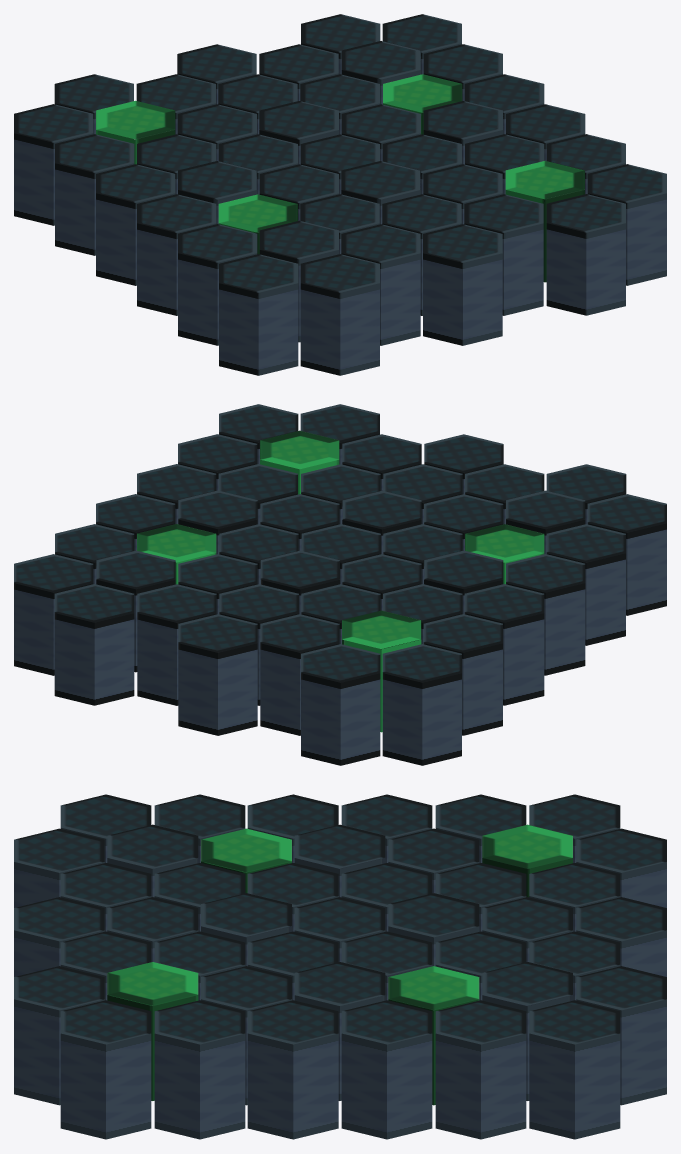
File: general0.fbx
The picture shows the model from 3 angles, top to bottom: view 1: azimuth 30°, elevation 25°; view 2: azimuth 150°, elevation 25°; view 3: azimuth 270°, elevation 25°; orthographic projection. The views are drawn at different scales.
Visible parts, largest first — view 1: pCylinder41, pCylinder38, pCylinder45, pCylinder44, pCylinder34, pCylinder25, pCylinder13, pCylinder29, pCylinder42, pCylinder35, pCylinder43, pCylinder12 (+33 smaller); view 2: pCylinder31, pCylinder24, pCylinder29, pCylinder26, pCylinder13, pCylinder19, pCylinder12, pCylinder25, pCylinder38, pCylinder28, pCylinder23, pCylinder42 (+33 smaller); view 3: pCylinder23, pCylinder30, pCylinder37, pCylinder9, pCylinder10, pCylinder43, pCylinder31, pCylinder44, pCylinder41, pCylinder24, pCylinder26, pCylinder45 (+33 smaller).
Part boxes in pixels (left/top/right/bottom): pCylinder41: left=423, top=224, right=502, bottom=345; pCylinder38: left=219, top=254, right=298, bottom=375; pCylinder45: left=300, top=254, right=379, bottom=375; pCylinder44: left=546, top=194, right=625, bottom=315; pCylinder34: left=464, top=194, right=543, bottom=315; pCylinder25: left=55, top=134, right=134, bottom=255; pCylinder13: left=96, top=164, right=175, bottom=285; pCylinder29: left=14, top=104, right=93, bottom=225; pCylinder42: left=178, top=224, right=257, bottom=345; pCylinder35: left=341, top=224, right=420, bottom=345; pCylinder43: left=587, top=164, right=666, bottom=285; pCylinder12: left=137, top=194, right=216, bottom=315; pCylinder31: left=54, top=584, right=134, bottom=705; pCylinder24: left=178, top=614, right=257, bottom=735; pCylinder29: left=382, top=644, right=461, bottom=765; pCylinder26: left=301, top=644, right=380, bottom=765; pCylinder13: left=464, top=584, right=544, bottom=705; pCylinder19: left=137, top=584, right=216, bottom=705; pCylinder12: left=506, top=554, right=585, bottom=675; pCylinder25: left=423, top=614, right=502, bottom=735; pCylinder38: left=587, top=494, right=666, bottom=615; pCylinder28: left=260, top=614, right=339, bottom=735; pCylinder23: left=14, top=554, right=93, bottom=675; pCylinder42: left=546, top=524, right=625, bottom=645; pCylinder23: left=529, top=1000, right=620, bottom=1139; pCylinder30: left=435, top=1000, right=526, bottom=1139; pCylinder37: left=154, top=1000, right=245, bottom=1139; pCylinder9: left=341, top=1000, right=432, bottom=1139; pCylinder10: left=247, top=1000, right=338, bottom=1139; pCylinder43: left=60, top=1000, right=151, bottom=1139; pCylinder31: left=576, top=966, right=666, bottom=1105; pCylinder44: left=14, top=966, right=104, bottom=1105; pCylinder41: left=14, top=897, right=104, bottom=976; pCylinder24: left=576, top=897, right=666, bottom=976; pCylinder26: left=576, top=828, right=666, bottom=907; pCylinder45: left=14, top=828, right=104, bottom=907.
Size of the model in its own units: 11.29 by 2.08 by 12.46.
1 material, 1 textured.
